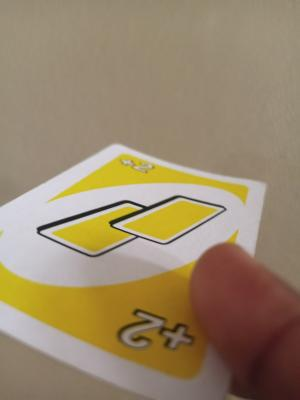-2: (108, 305, 197, 369), (100, 155, 160, 191)
yellow: (19, 195, 249, 261)
